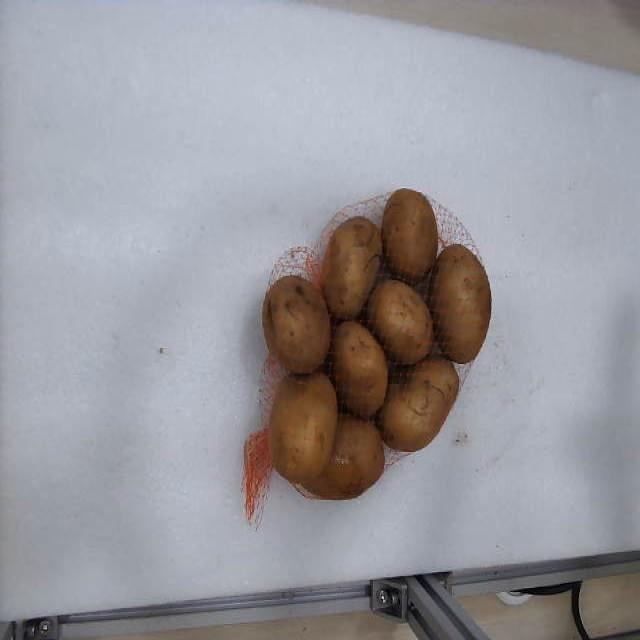potato: (379, 357, 459, 451), (269, 372, 336, 482), (430, 243, 491, 362), (302, 415, 384, 499), (262, 278, 330, 374), (321, 217, 382, 318), (368, 282, 432, 364), (384, 188, 438, 282), (332, 322, 386, 416)
